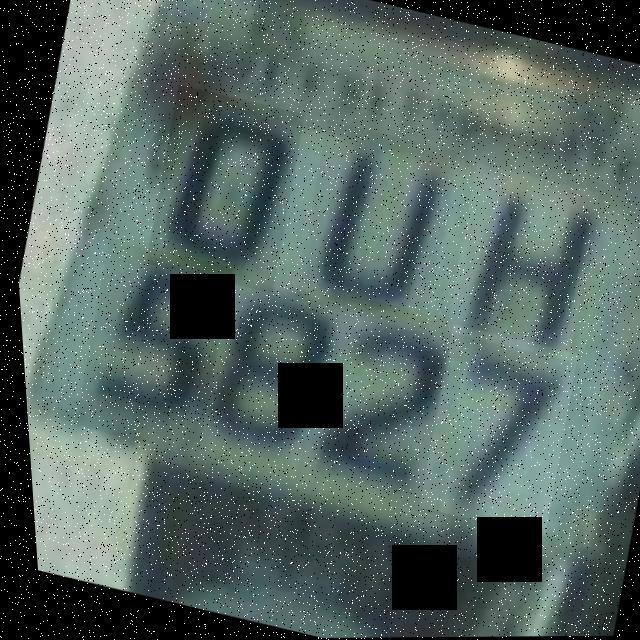2: (278, 290, 477, 516)
5: (59, 238, 238, 456)
7: (402, 324, 582, 538)
8: (176, 258, 361, 488)
H: (432, 163, 605, 362)
O: (132, 83, 312, 294)
U: (281, 119, 465, 331)
